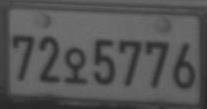2: (39, 35, 60, 83)
5: (93, 38, 115, 86)
6: (172, 42, 196, 89)
7: (145, 39, 169, 88), (118, 39, 142, 86), (11, 34, 34, 80)
오: (63, 46, 87, 85)
